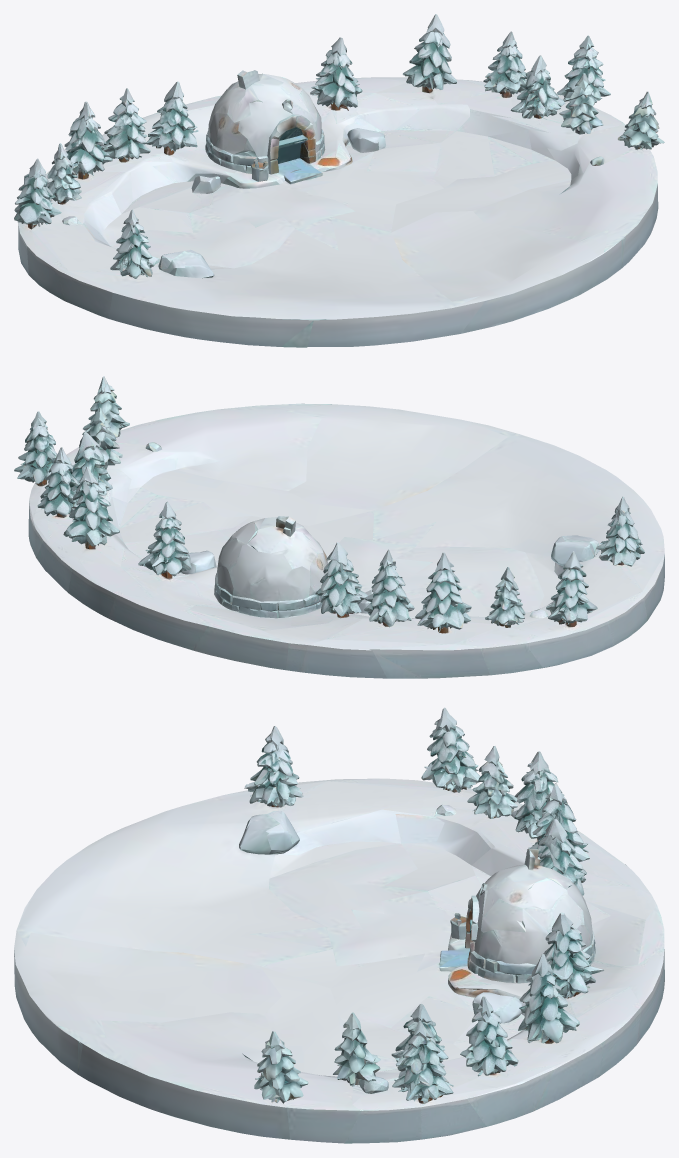
File: ilha-gelo.glb
The picture shows the model from 3 angles, top to bottom: view 1: azimuth 30°, elevation 25°; view 2: azimuth 150°, elevation 25°; view 3: azimuth 270°, elevation 25°; orthographic projection. The views are drawn at different scales.
Size of the model in its own units: 1.9 by 0.3393 by 1.55.
Materials: 1 (1 with a texture image).
